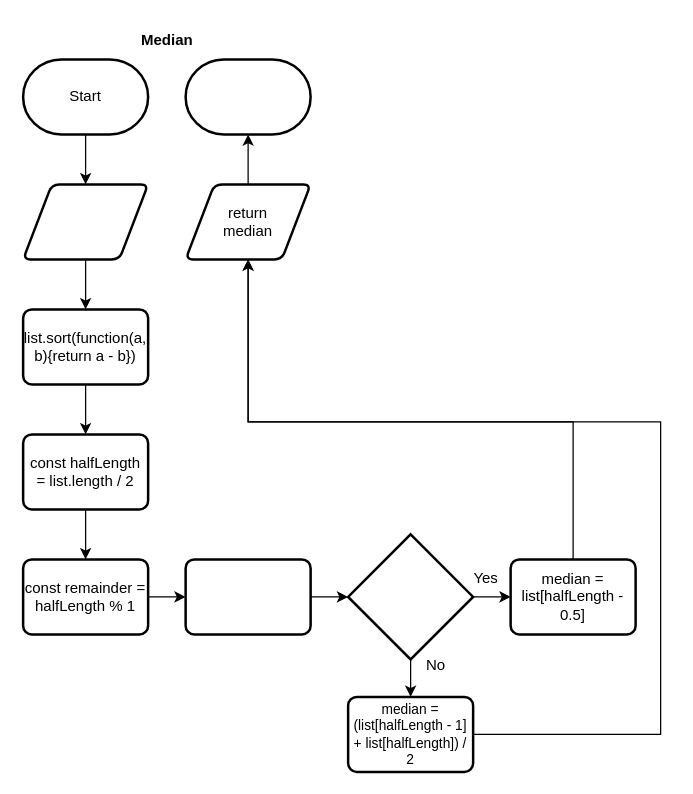
Some shapes in this 693 by 794 pixel diagram are drawn without their labels. Each missing label, with the box of its shape:
End: (184, 58, 311, 135)
if (remainder != 0): (346, 532, 474, 660)
let median = 0: (184, 558, 311, 635)
Set list: (21, 182, 149, 260)
